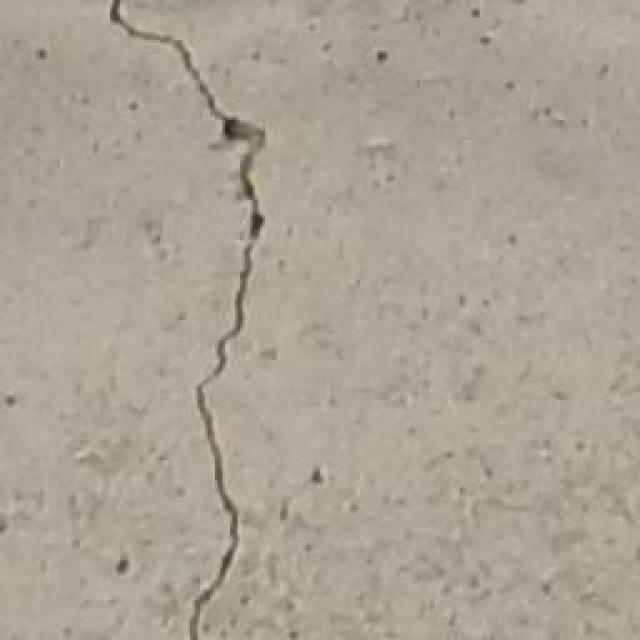concrete-crack: (110, 0, 268, 640)
